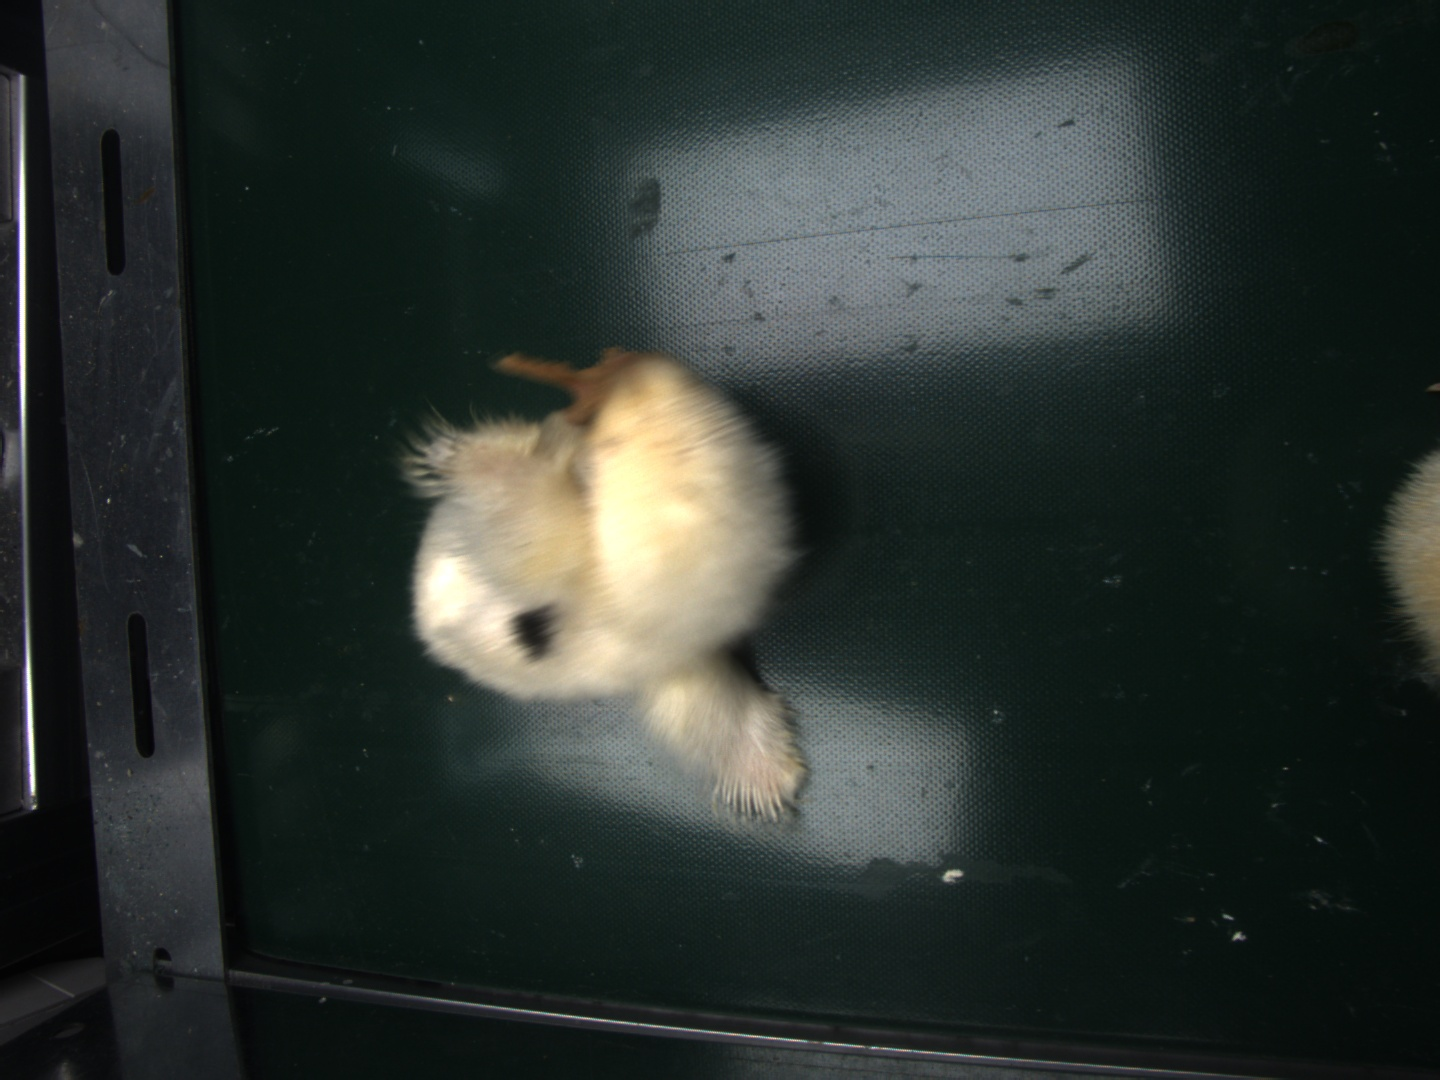male: (713, 773, 791, 824)
